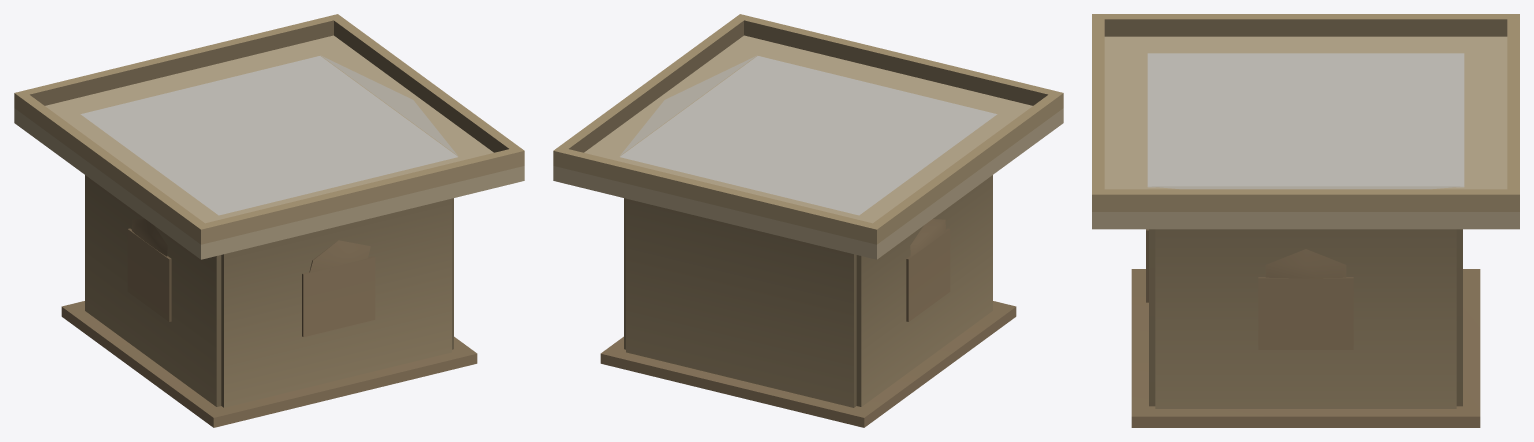
The model's file is sanbo.glb.
3 views of the same model, side by side, from view 1: azimuth 30°, elevation 25°; view 2: azimuth 150°, elevation 25°; view 3: azimuth 270°, elevation 25° (orthographic). The views are drawn at different scales.
Visible parts, largest first — view 1: sanbo; view 2: sanbo; view 3: sanbo.
Part boxes in pixels (x1,y1,x2,y2): sanbo: [14, 14, 524, 427]; sanbo: [553, 14, 1063, 427]; sanbo: [1092, 14, 1519, 427].
Size of the model in its own units: 0.27 by 0.174 by 0.27.
